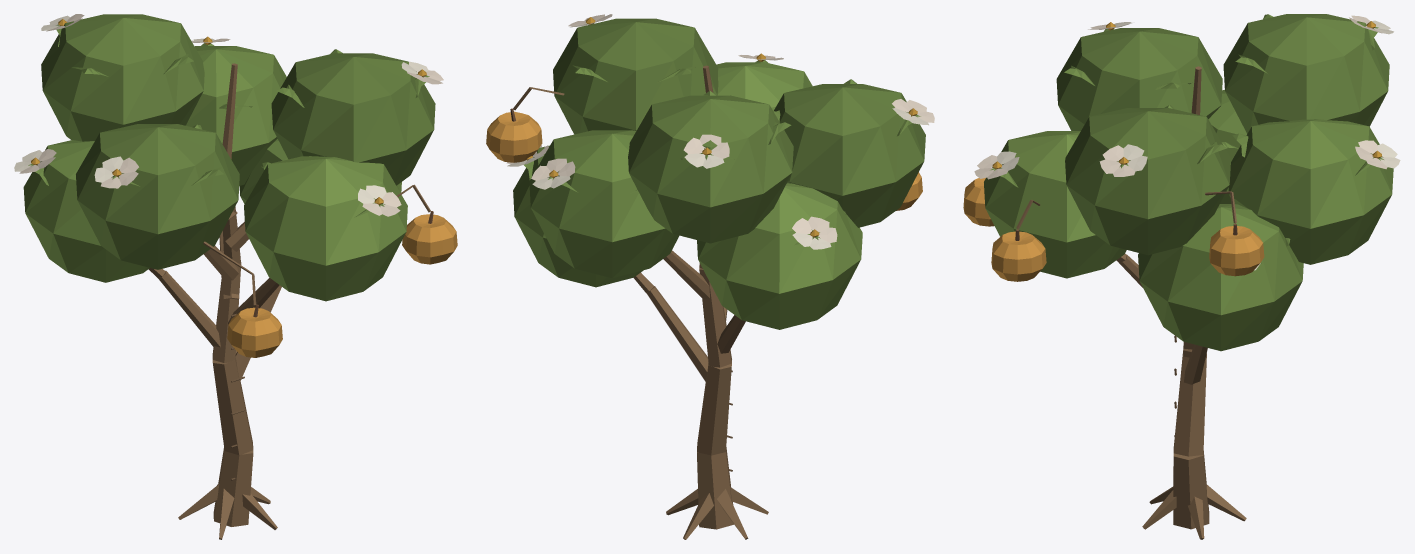
Rendered from apricot_tree.glb.
3 views of the same model, side by side, from view 1: azimuth 30°, elevation 25°; view 2: azimuth 150°, elevation 25°; view 3: azimuth 270°, elevation 25° (orthographic).
Visible parts, largest first — view 1: leaves, branches, blossom, fruit_1, fruit_2; view 2: leaves, branches, blossom, fruit_3; view 3: leaves, branches, blossom, fruit_3, fruit_2, fruit_1.
Part boxes in pixels (<box>): leaves: <box>23,14,435,301</box>; branches: <box>148,63,413,539</box>; blossom: <box>14,14,443,216</box>; fruit_1: <box>227,274,282,357</box>; fruit_2: <box>402,184,457,264</box>; leaves: <box>513,18,925,329</box>; branches: <box>531,65,768,539</box>; blossom: <box>506,14,934,249</box>; fruit_3: <box>486,87,542,162</box>; leaves: <box>984,14,1393,351</box>; branches: <box>1031,66,1246,539</box>; blossom: <box>974,15,1400,270</box>; fruit_3: <box>1209,192,1264,276</box>; fruit_2: <box>991,200,1046,281</box>; fruit_1: <box>963,178,994,226</box>.
Bounding box in the file's own units: 2.4 × 2.9 × 2.4.
